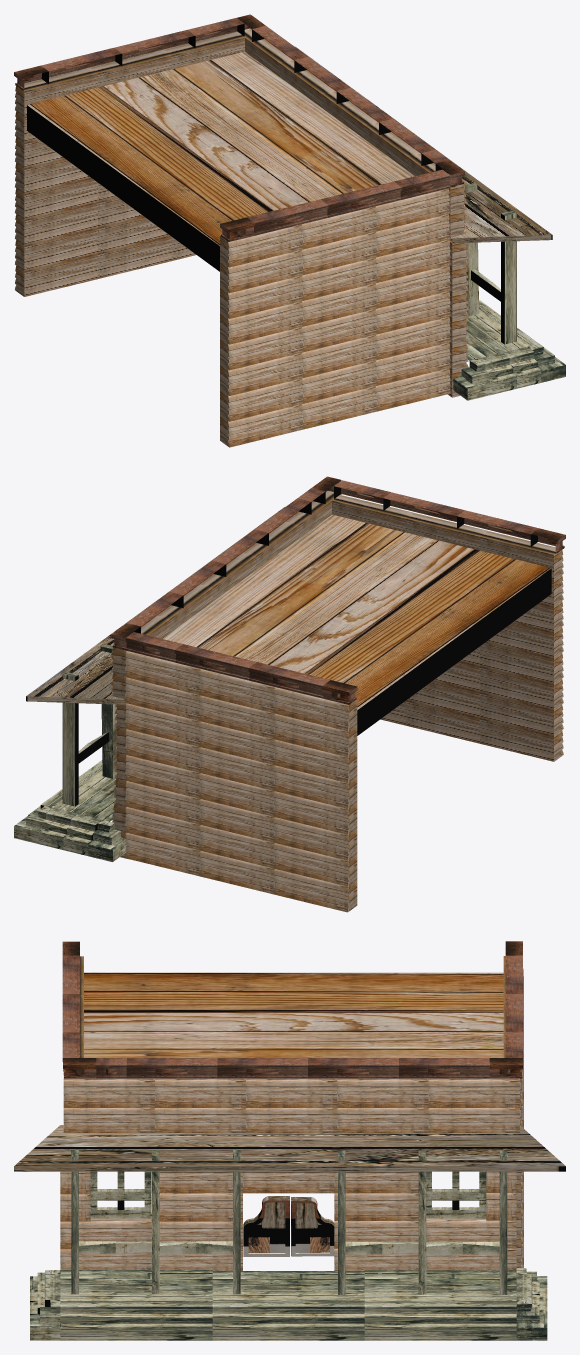
The model's file is ThomasSaloonNew.fbx.
The picture shows the model from 3 angles, top to bottom: view 1: azimuth 30°, elevation 25°; view 2: azimuth 150°, elevation 25°; view 3: azimuth 270°, elevation 25°; orthographic projection. The views are drawn at different scales.
Parts seen in each view (by area): view 1: PorchFloor__3_, PorchRoof, Wall__332_, Wall__329_, Wall__232_, Wall__235_, Wall__323_, Wall__326_, Wall__229_, Wall__198_, Wall__201_, Wall__204_ (+49 smaller); view 2: PorchFloor__3_, PorchRoof, Wall__183_, Wall__195_, Wall__198_, Wall__201_, Wall__189_, Wall__192_, Wall__204_, Wall__186_, Wall__326_, Wall__329_ (+49 smaller); view 3: PorchFloor__3_, PorchRoof, StairLong__19_, StairLong__14_, StairLong__20_, PorchFloor, PorchFloor__2_, PorchFloor__1_, Wall__169_, Wall__175_, Wall__173_, Wall__177_ (+46 smaller).
Part boxes in pixels (<box>): PorchFloor__3_: <box>27,51,414,271</box>; PorchRoof: <box>295,46,552,243</box>; Wall__332_: <box>220,404,303,447</box>; Wall__329_: <box>220,378,303,421</box>; Wall__232_: <box>220,275,303,318</box>; Wall__235_: <box>220,301,303,344</box>; Wall__323_: <box>220,327,303,370</box>; Wall__326_: <box>220,353,303,395</box>; Wall__229_: <box>220,250,303,293</box>; Wall__198_: <box>15,202,97,245</box>; Wall__201_: <box>15,227,97,271</box>; Wall__204_: <box>15,253,97,296</box>; PorchFloor__3_: <box>162,514,551,735</box>; PorchRoof: <box>26,507,284,704</box>; Wall__183_: <box>273,687,357,731</box>; Wall__195_: <box>273,791,357,834</box>; Wall__198_: <box>273,817,357,860</box>; Wall__201_: <box>273,843,357,886</box>; Wall__189_: <box>273,739,357,782</box>; Wall__192_: <box>273,765,357,808</box>; Wall__204_: <box>273,869,357,912</box>; Wall__186_: <box>273,713,357,756</box>; Wall__326_: <box>480,666,563,709</box>; Wall__329_: <box>480,692,563,735</box>; PorchFloor__3_: <box>84,972,503,1057</box>; PorchRoof: <box>14,1125,565,1171</box>; StairLong__19_: <box>212,1300,364,1340</box>; StairLong__14_: <box>364,1301,516,1340</box>; StairLong__20_: <box>60,1301,212,1340</box>; PorchFloor: <box>60,1270,212,1301</box>; PorchFloor__2_: <box>364,1270,516,1300</box>; PorchFloor__1_: <box>212,1271,364,1299</box>; Wall__169_: <box>63,1072,154,1107</box>; Wall__175_: <box>337,1078,428,1107</box>; Wall__173_: <box>246,1078,337,1107</box>; Wall__177_: <box>428,1078,519,1107</box>.
Size of the model in its own units: 1312 by 863 by 1814.
